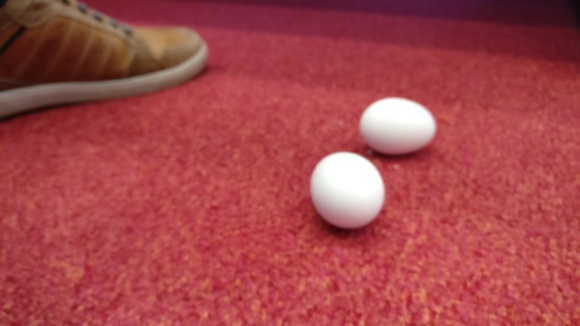egg: (310, 150, 386, 232), (358, 97, 436, 157)
